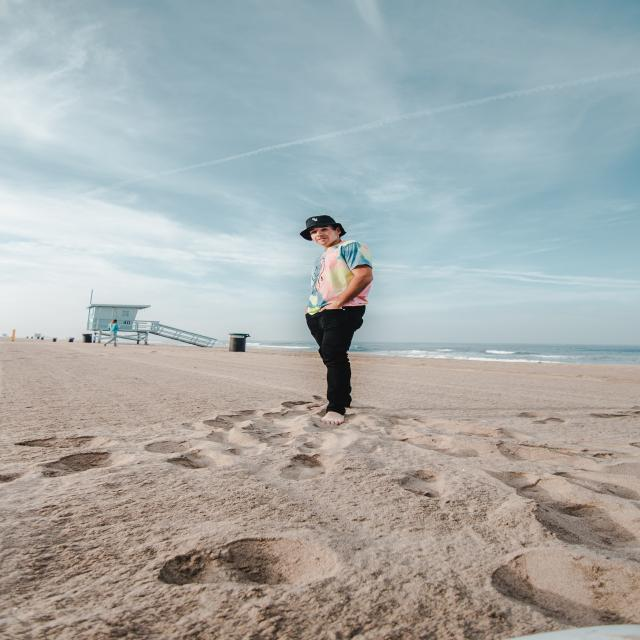standing: (287, 207, 389, 424)
